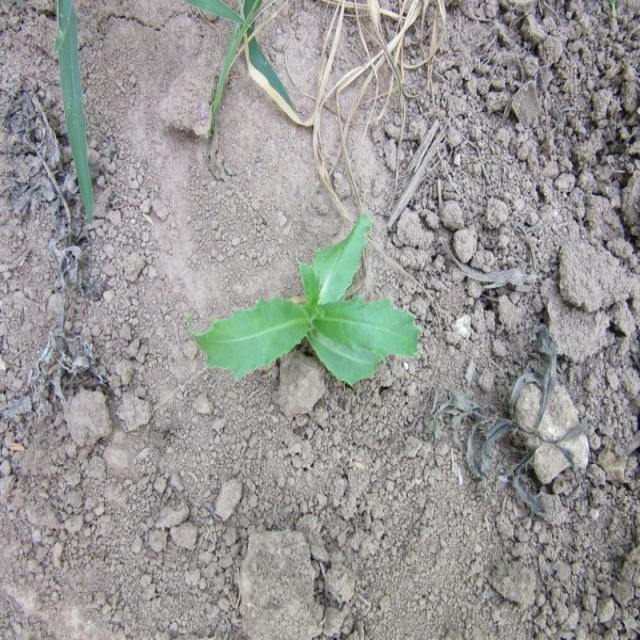cs: (183, 208, 423, 396)
